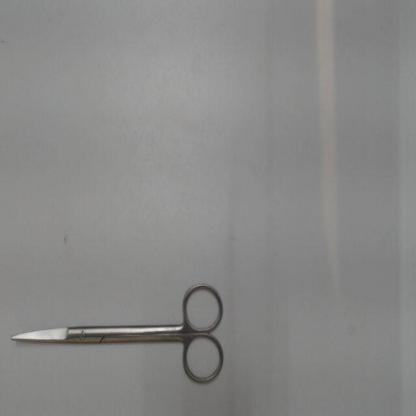Curved Mayo Scissors: (7, 274, 230, 390)
